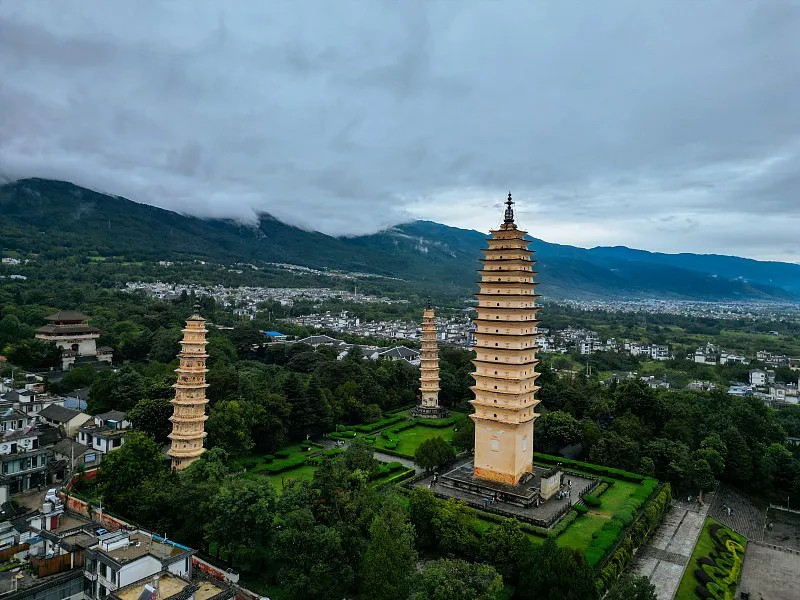ThreePagoda: (467, 189, 542, 483)
